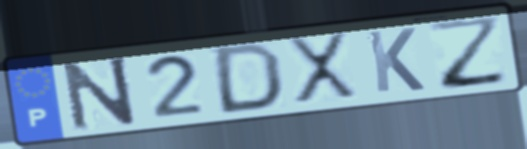2: (143, 53, 207, 120)
D: (212, 40, 285, 116)
K: (363, 25, 428, 95)
N: (58, 53, 140, 134)
X: (284, 30, 361, 106)
Z: (425, 12, 512, 92)
